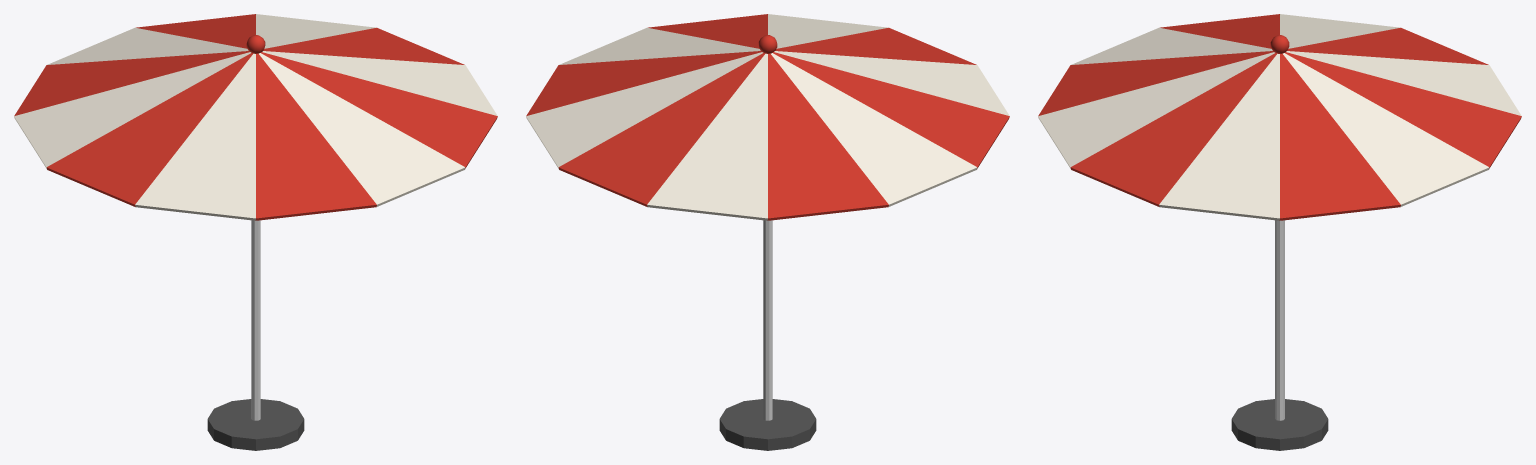
Rendered from umbrella.glb.
3 views of the same model, side by side, from view 1: azimuth 30°, elevation 25°; view 2: azimuth 150°, elevation 25°; view 3: azimuth 270°, elevation 25° (orthographic).
Visible parts, largest first — view 1: umbrella; view 2: umbrella; view 3: umbrella.
Part boxes in pixels (x1,y1,x2,y2): umbrella: (14, 14, 497, 450); umbrella: (526, 14, 1009, 450); umbrella: (1038, 14, 1521, 450).
Size of the model in its own units: 3 by 2.7 by 3.
